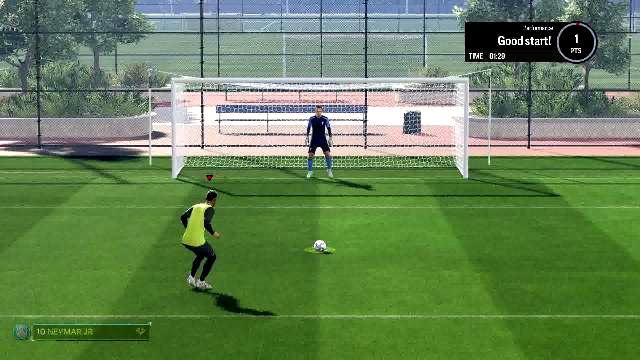bottom-left: (177, 132, 271, 178)
bottom-right: (370, 130, 464, 176)
center-down: (272, 131, 368, 177)
center-up: (274, 82, 368, 130)
circle: (306, 248, 336, 254)
football: (313, 240, 329, 253)
goalkeeper: (303, 105, 339, 179)
player: (178, 186, 228, 296)
top-left: (176, 84, 270, 132)
top-right: (370, 84, 464, 132)
